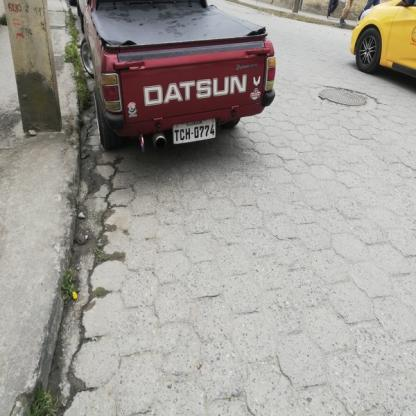Placa: (168, 115, 226, 144)
